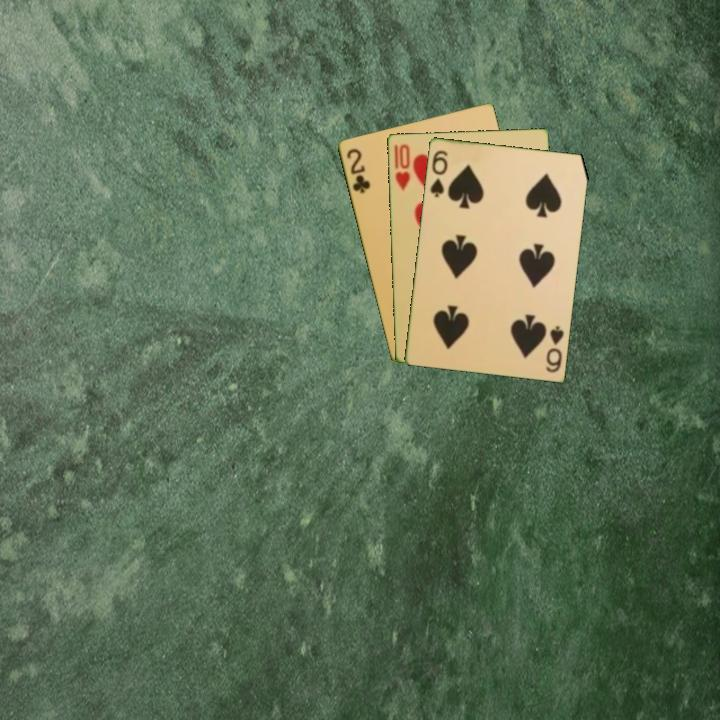10h: (391, 141, 413, 194)
2c: (343, 145, 373, 196)
6s: (542, 322, 567, 375), (426, 146, 450, 200)
